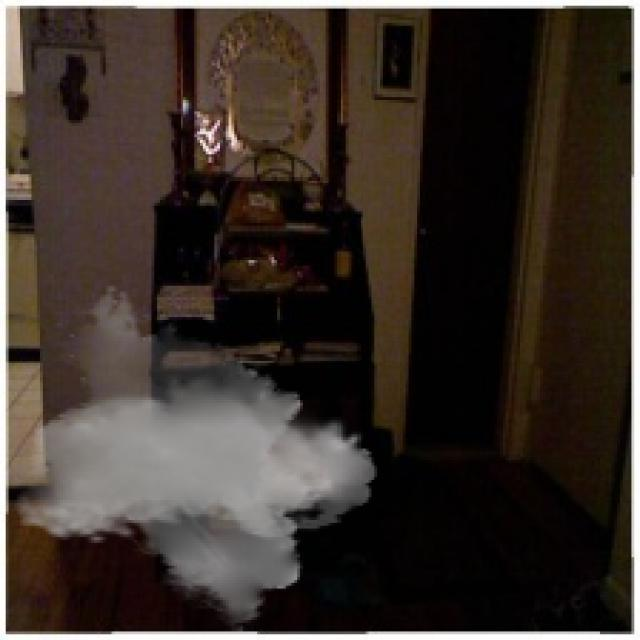Smoke: (14, 282, 377, 634)
